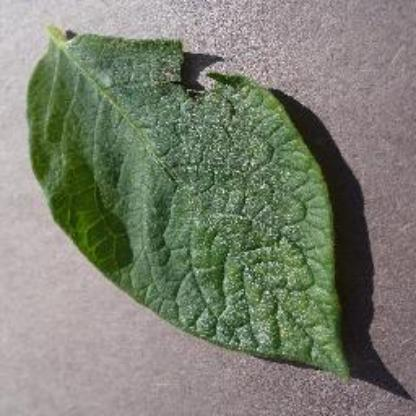Healthy-plant: (19, 16, 369, 388)
